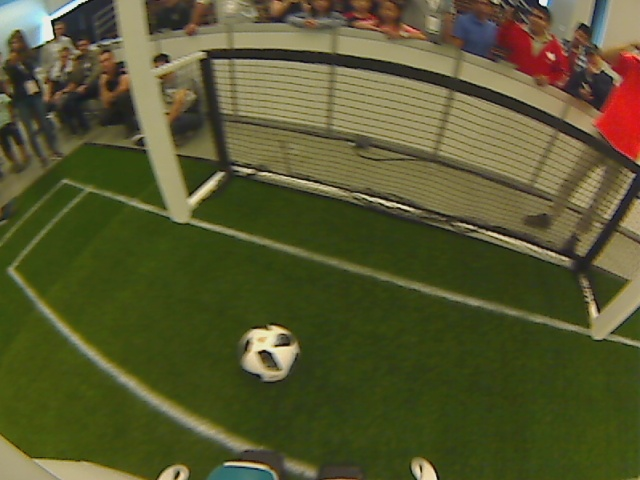ball: (236, 324, 304, 383)
